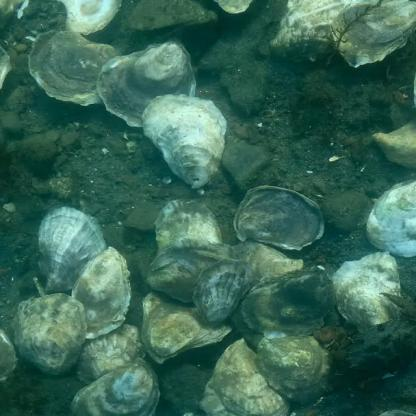Oyster- Indeterminate: (233, 186, 325, 248), (128, 0, 216, 42)
Oyster-Closed: (96, 39, 195, 127), (142, 94, 228, 190), (27, 29, 122, 105), (203, 338, 293, 416), (242, 266, 335, 338), (142, 289, 232, 363), (11, 293, 89, 378), (37, 207, 108, 293), (330, 0, 416, 68), (146, 238, 234, 300), (71, 248, 130, 338), (258, 335, 335, 403), (70, 358, 160, 416), (271, 0, 356, 61), (333, 253, 400, 330), (77, 324, 150, 384), (193, 259, 255, 327), (365, 180, 416, 256), (154, 200, 223, 253), (231, 241, 305, 288), (375, 118, 416, 169), (0, 330, 17, 381), (214, 0, 254, 14)
